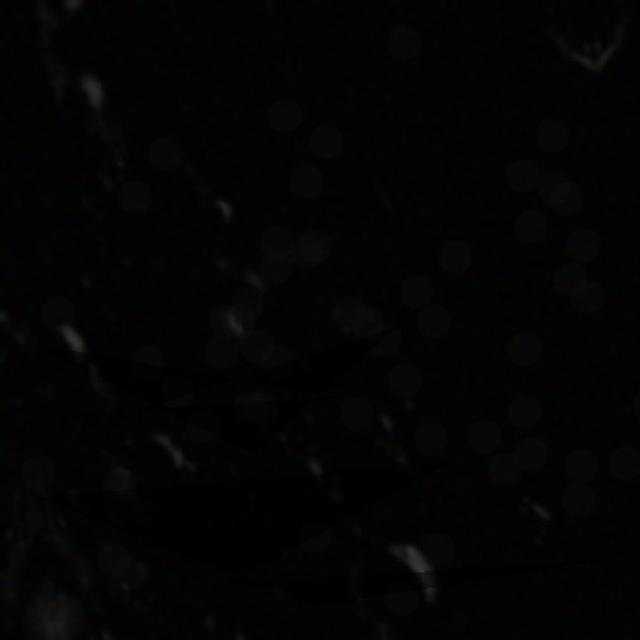crater: (336, 524, 456, 638), (109, 414, 202, 520), (17, 314, 106, 392), (0, 223, 72, 299), (53, 58, 119, 133), (214, 261, 284, 328), (502, 486, 566, 556), (365, 382, 424, 438), (247, 569, 296, 625), (193, 189, 244, 240), (142, 150, 182, 192), (239, 325, 278, 364), (102, 637, 156, 640)
